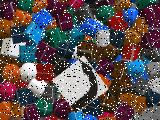Left: (52, 56, 108, 114)
